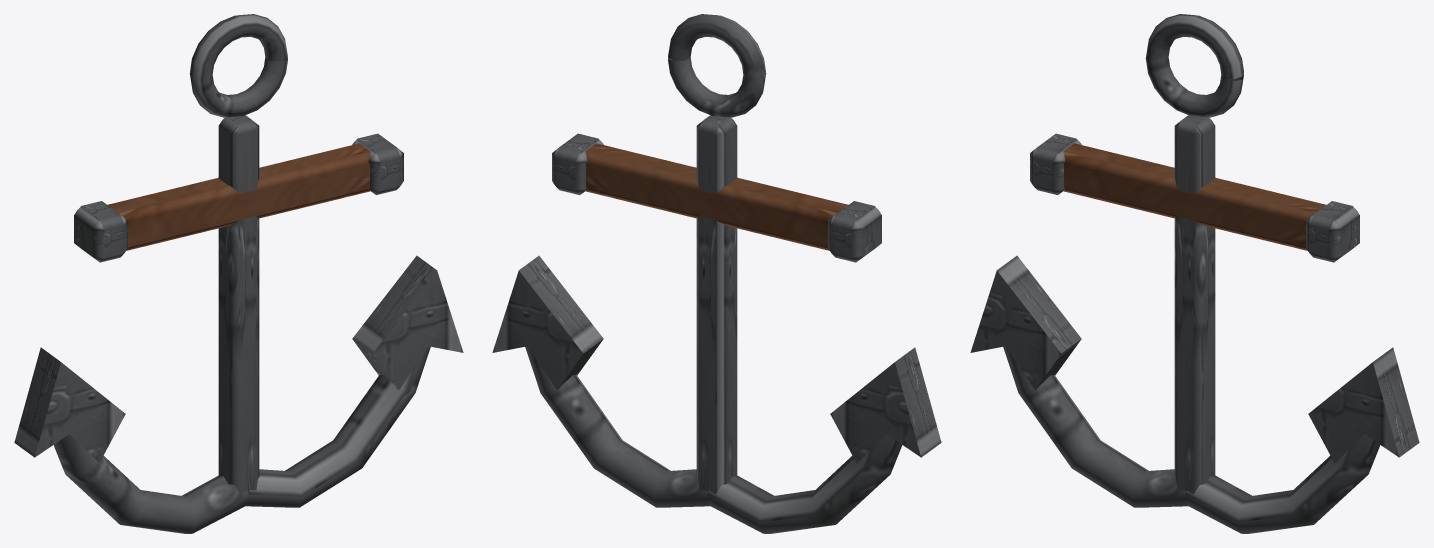
The model's file is SM_Anchor.glb.
3 renders of one model, left to right at view 1: azimuth 30°, elevation 25°; view 2: azimuth 150°, elevation 25°; view 3: azimuth 330°, elevation 25°, orthographic.
Visible parts, largest first — view 1: SM_Anchor; view 2: SM_Anchor; view 3: SM_Anchor.
Part boxes in pixels (bbox=[...]): SM_Anchor: bbox=[14, 14, 463, 533]; SM_Anchor: bbox=[492, 14, 941, 533]; SM_Anchor: bbox=[970, 14, 1419, 533].
Bounding box in the file's own units: 1.46 × 1.64 × 0.16.
Materials: 1 (1 with a texture image).
